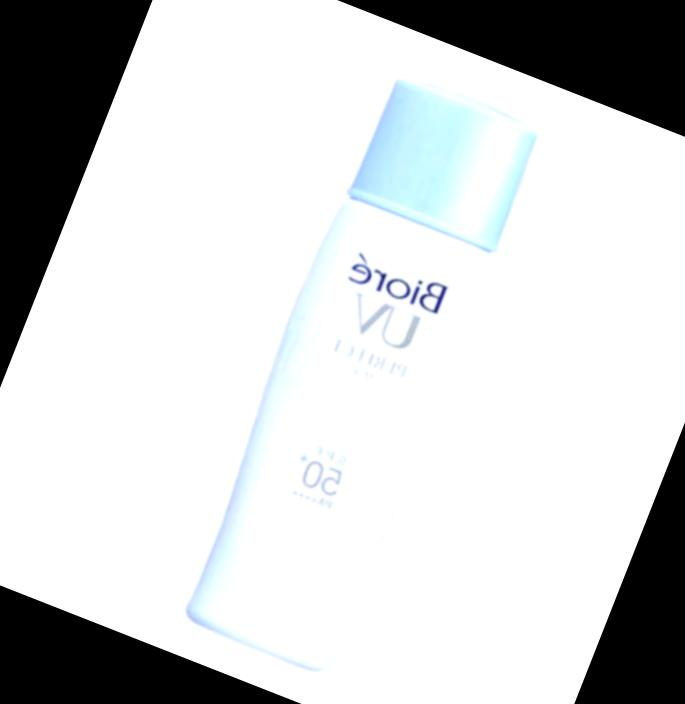cosmetic: (175, 74, 545, 675)
